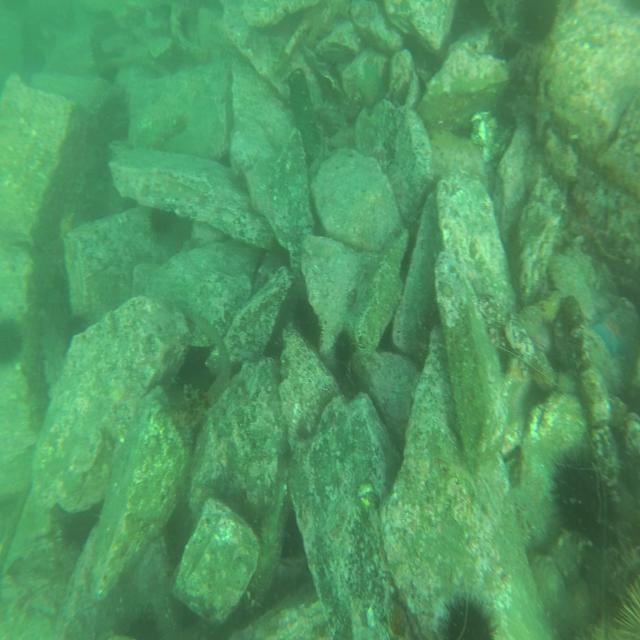echinus: (556, 450, 604, 541), (444, 594, 492, 640), (0, 316, 24, 364), (150, 204, 176, 239)
starfish: (593, 306, 628, 357)
